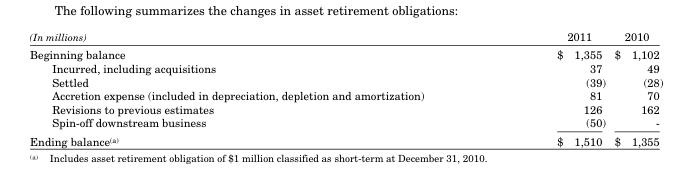table: (29, 29, 662, 147)
table column: (29, 29, 489, 147), (489, 29, 609, 147), (609, 29, 662, 147)
table column header: (29, 29, 662, 45)
table row: (29, 29, 662, 45), (29, 45, 662, 61), (29, 115, 662, 131), (29, 131, 662, 147), (29, 74, 662, 88), (29, 101, 662, 115), (29, 61, 662, 74), (29, 88, 662, 101)
